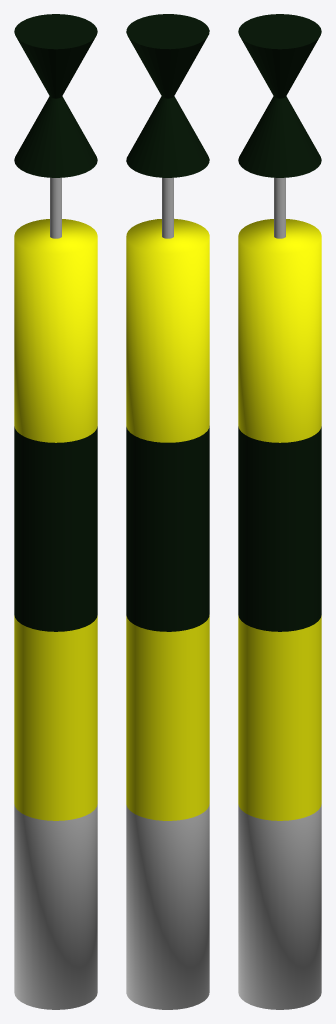
File: Bcn-West.gltf
The picture shows the model from 3 angles, left to right: view 1: azimuth 90°, elevation 25°; view 2: azimuth 150°, elevation 25°; view 3: azimuth 270°, elevation 25°; orthographic projection.
Visible parts, largest first — view 1: Cylinder.030, Cone 2.004, Cone 1.005, Axe.011; view 2: Cylinder.030, Cone 2.004, Cone 1.005, Axe.011; view 3: Cylinder.030, Cone 2.004, Cone 1.005, Axe.011.
Part boxes in pixels (left/top/right/bottom): Cylinder.030: left=14, top=219, right=97, bottom=1009; Cone 2.004: left=14, top=14, right=97, bottom=98; Cone 1.005: left=14, top=96, right=97, bottom=177; Axe.011: left=50, top=177, right=61, bottom=238; Cylinder.030: left=126, top=218, right=209, bottom=1009; Cone 2.004: left=126, top=14, right=209, bottom=98; Cone 1.005: left=126, top=96, right=209, bottom=177; Axe.011: left=162, top=177, right=173, bottom=238; Cylinder.030: left=238, top=219, right=321, bottom=1009; Cone 2.004: left=238, top=14, right=321, bottom=98; Cone 1.005: left=238, top=96, right=321, bottom=177; Axe.011: left=274, top=177, right=285, bottom=238.
Size of the model in its own units: 0.4 by 5.08 by 0.4.
